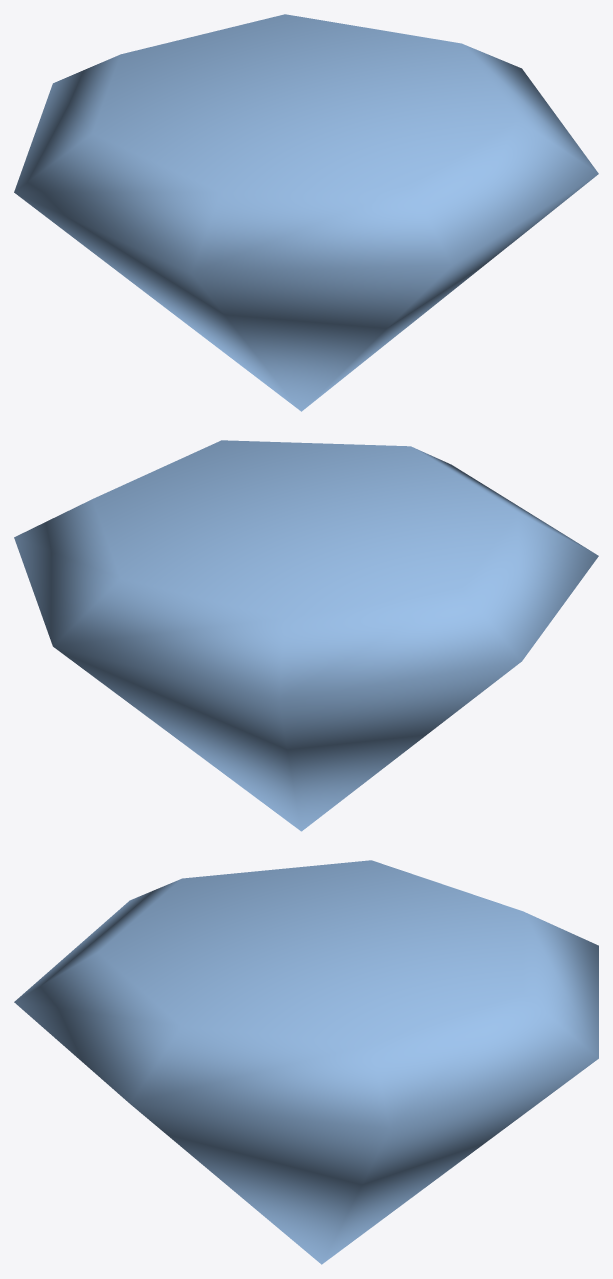
The model's file is Diamond.fbx.
The picture shows the model from 3 angles, top to bottom: view 1: azimuth 30°, elevation 25°; view 2: azimuth 150°, elevation 25°; view 3: azimuth 270°, elevation 25°; orthographic projection. The views are drawn at different scales.
Visible parts, largest first — view 1: Cone; view 2: Cone; view 3: Cone.
Part boxes in pixels (left/top/right/bottom): Cone: left=14, top=14, right=598, bottom=411; Cone: left=14, top=440, right=598, bottom=831; Cone: left=14, top=860, right=598, bottom=1264.
Bounding box in the file's own units: 131 × 75.04 × 127.
